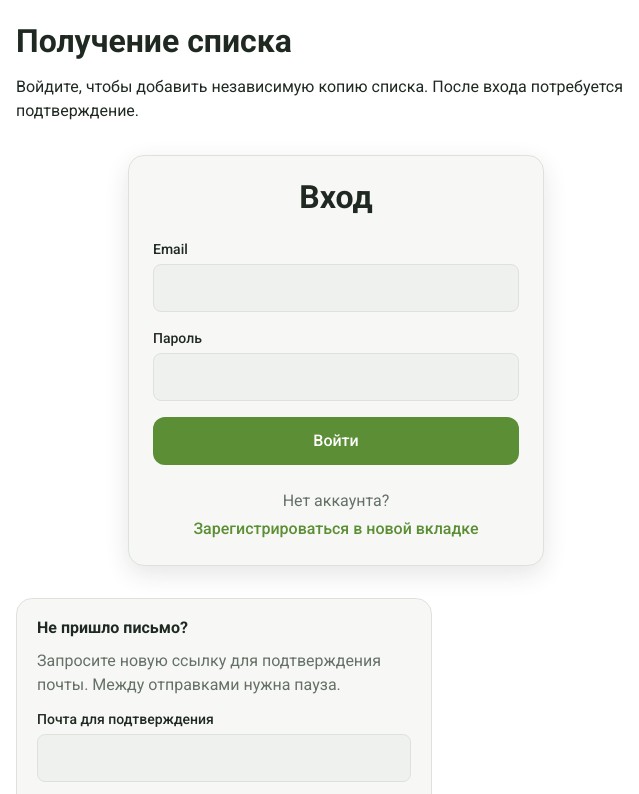
it: Получение копии › ошибка входа видна, подтверждение email можно отправить повторно
Expected: the heading "Вход" is shown, [299,178,373,216]
In the field labelled "Email": (336, 288) [153,264,519,312], type "user1@example.test"
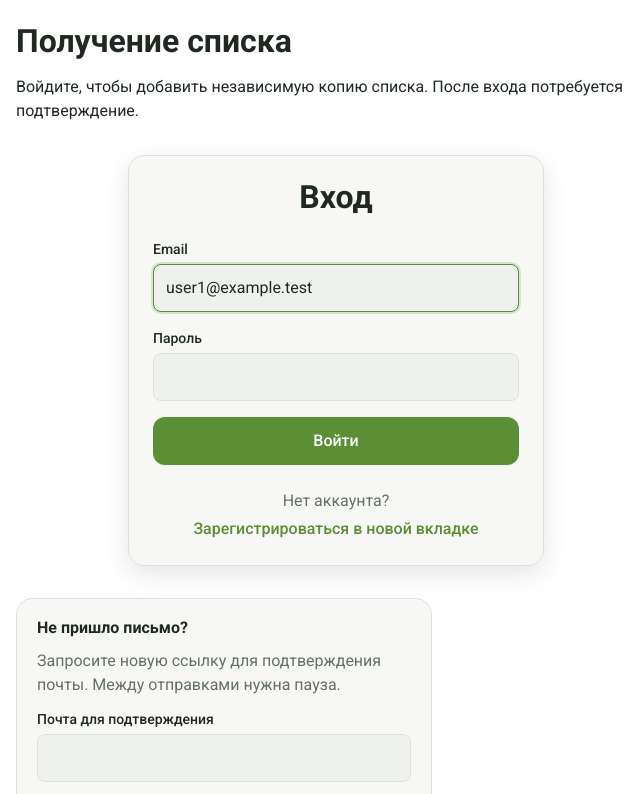
In the password field labelled "Пароль": (336, 377) [153,353,519,401], type "password123"
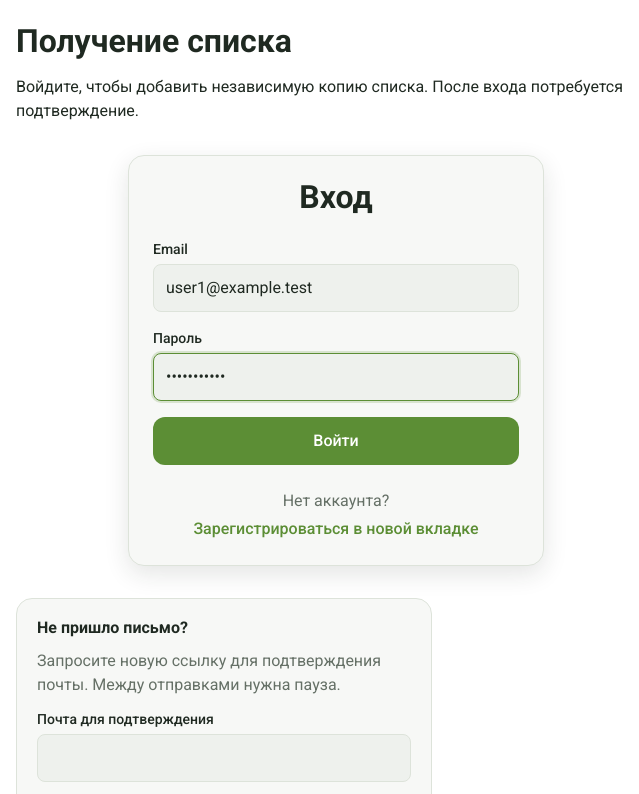
Click the button "Войти": (336, 441) [153,417,519,465]
(page scrolled)
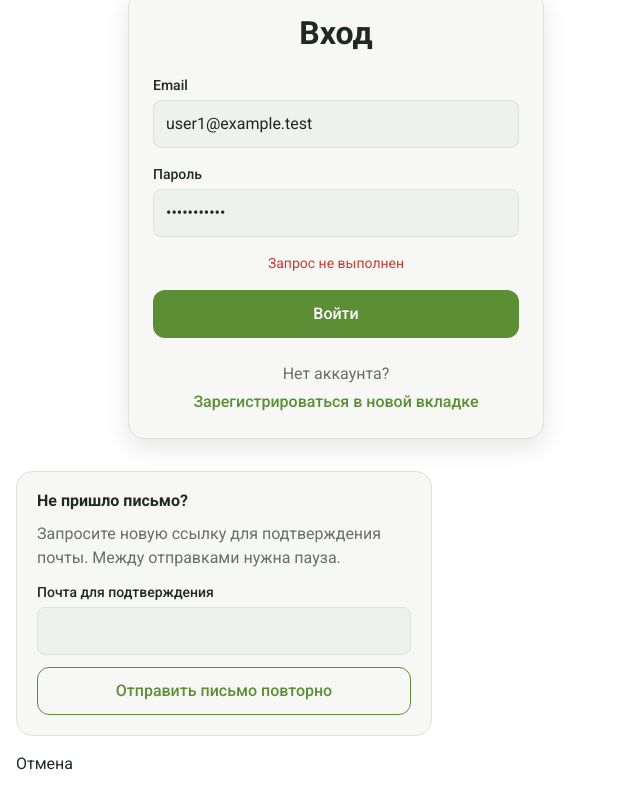
Expected: the button "Отправить письмо повторно" is shown, [37,667,411,715]
Now the message reads "Запрос не выполнен", box [268,255,404,271]
